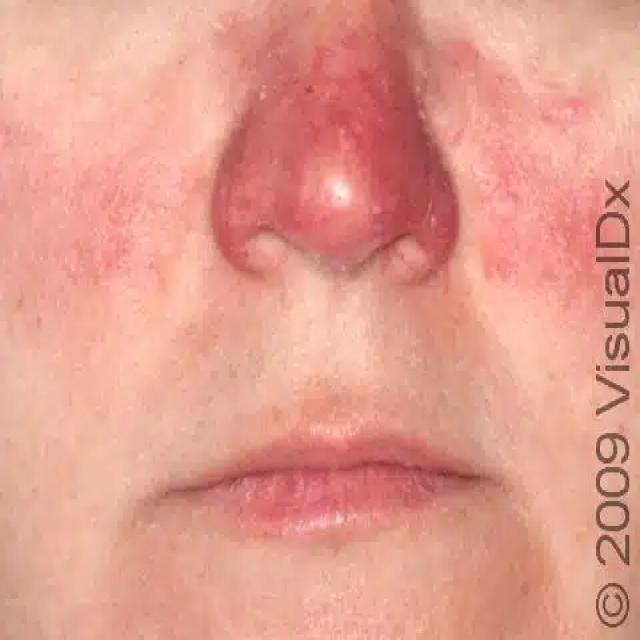Rosacea: (205, 36, 457, 276), (450, 32, 622, 306), (0, 138, 179, 319)
